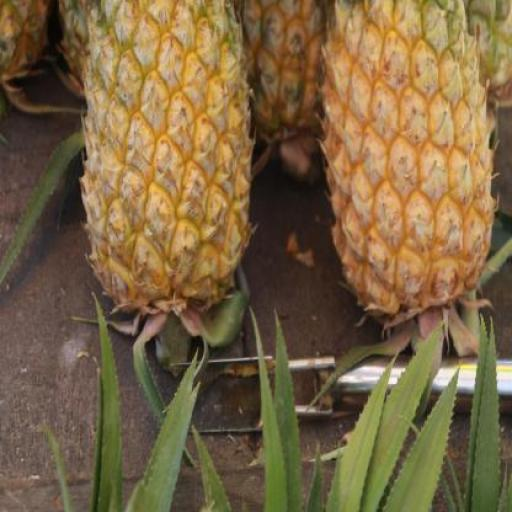Pineapple - v8 v1: (320, 0, 495, 326), (77, 0, 256, 311)
